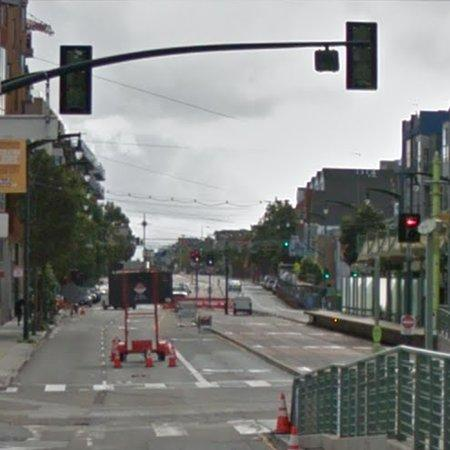traffic lights: (58, 43, 93, 117), (345, 20, 380, 92)
